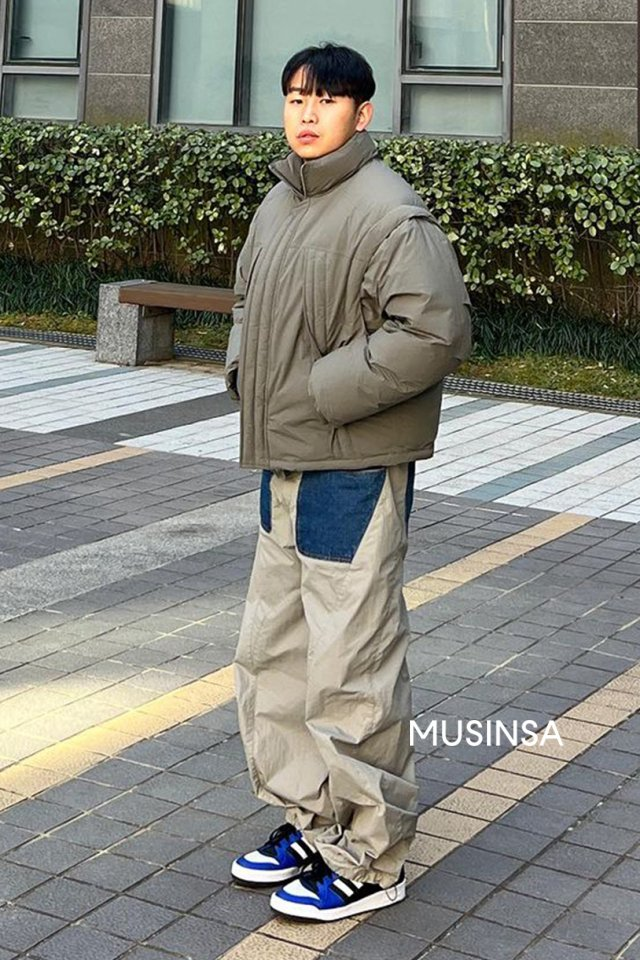Bubble jacket: (218, 142, 487, 488)
Pants: (226, 463, 421, 884)
Shoes: (218, 816, 431, 917)
